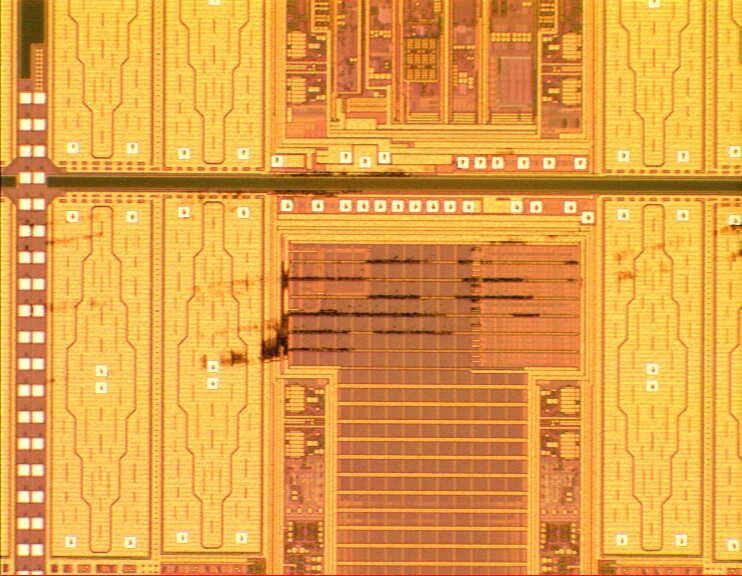SCRATCH: (10, 143, 742, 400)
